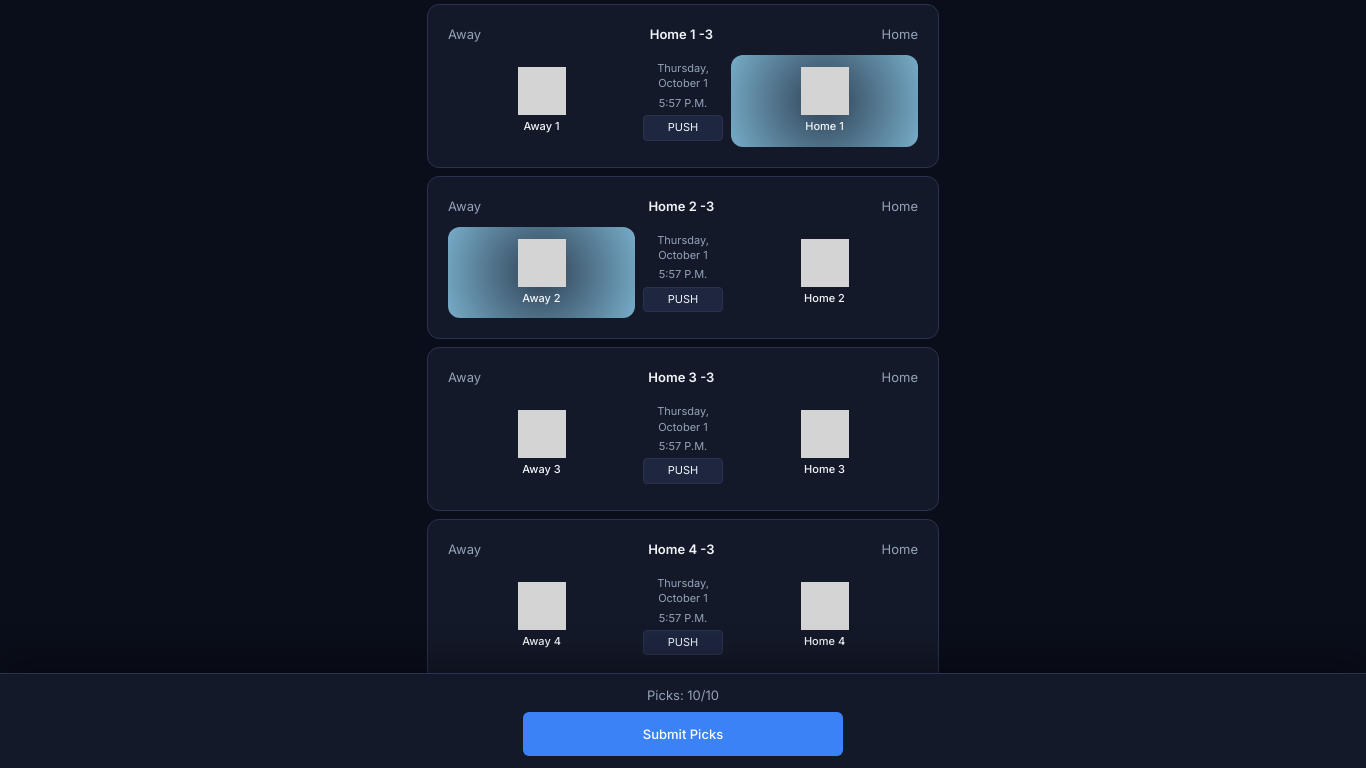
a rejected save shows an error instead of spinning forever
Expected: the text "Picks: 10/10" is shown, [647,686,719,704]
Click the button "Submit Picks".
click(683, 734)  # box [523,712,843,756]
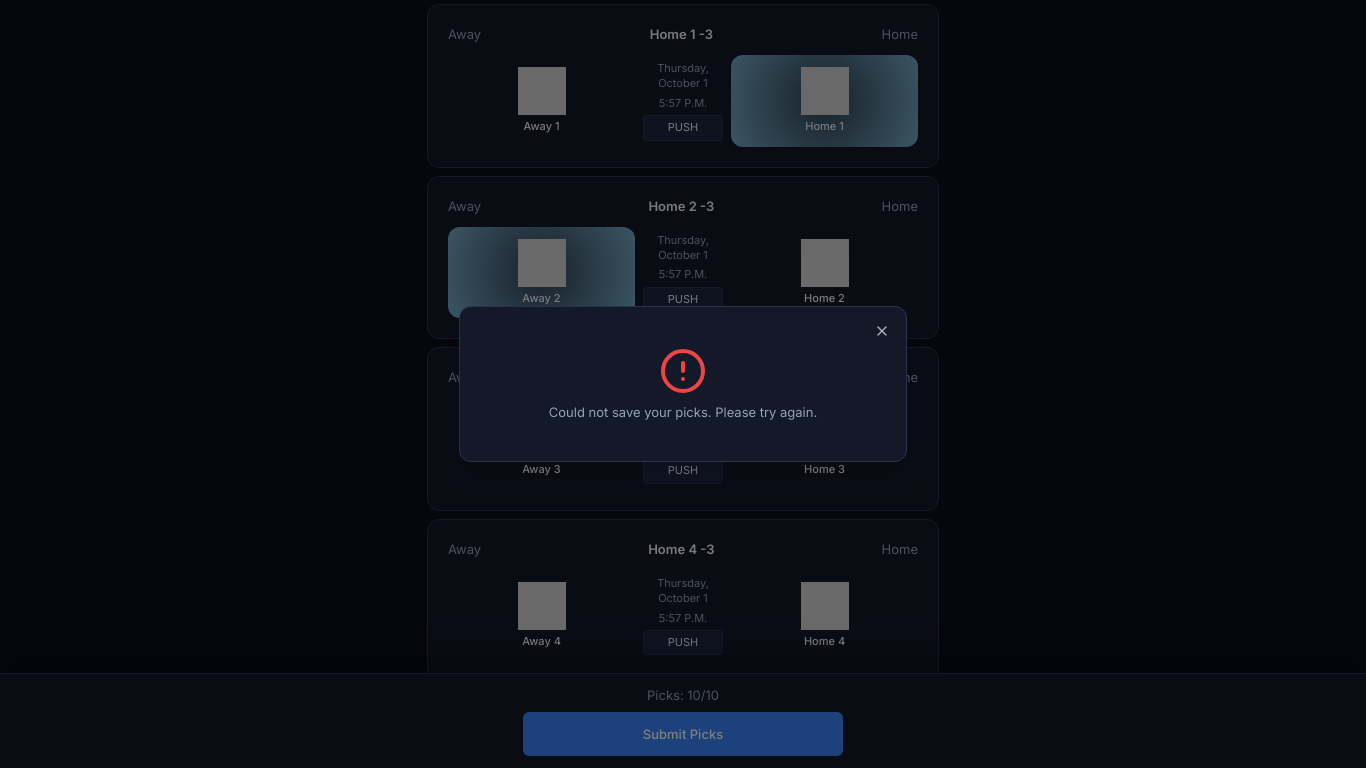
Expected: the text "Could not save your picks. Please try again." is shown, [549,403,817,421]
